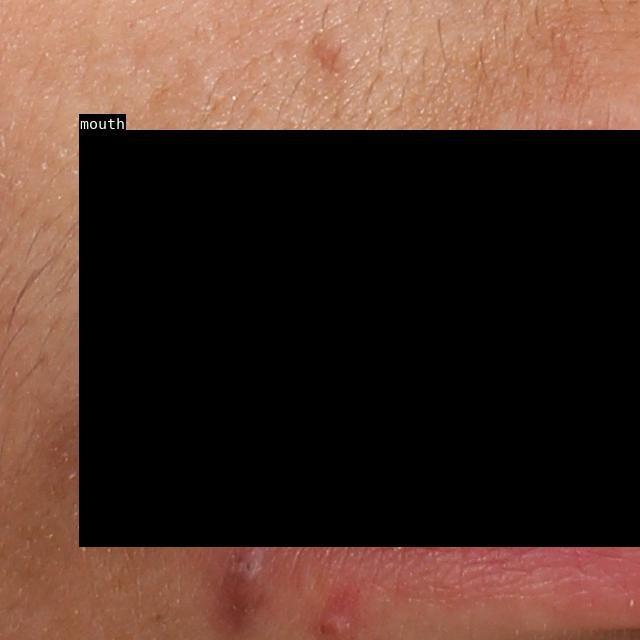papule: (214, 553, 269, 623)
